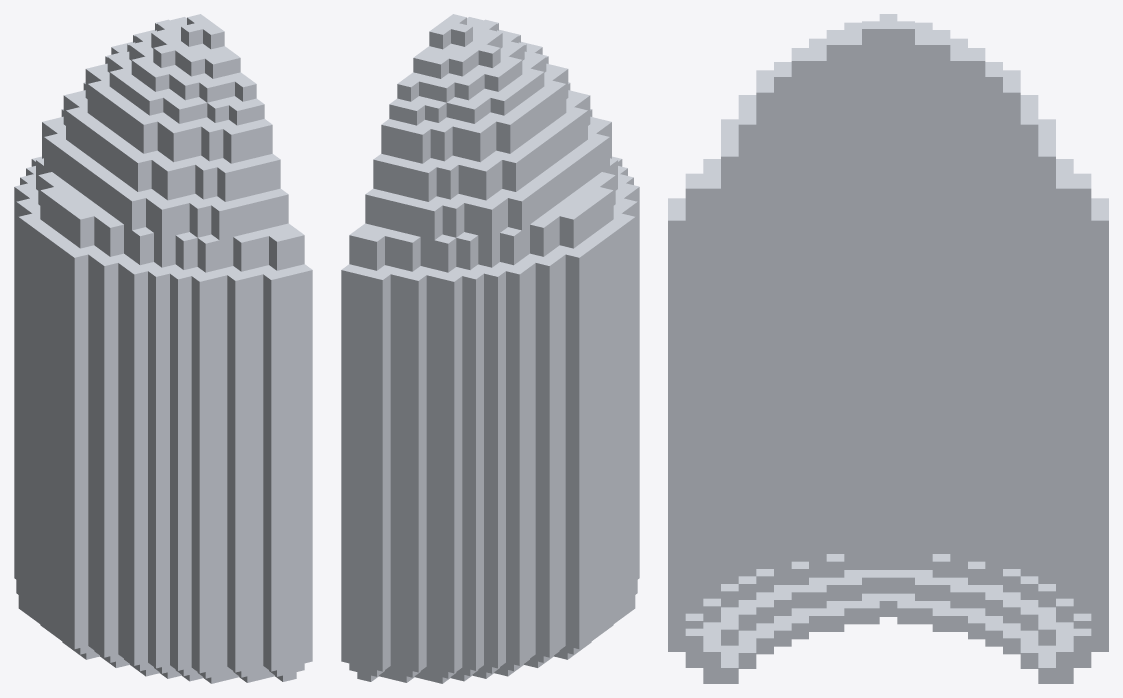
The model's file is pelicano_fairing_open.obj.
3 renders of one model, left to right at view 1: azimuth 30°, elevation 25°; view 2: azimuth 150°, elevation 25°; view 3: azimuth 270°, elevation 25°, orthographic. The views are drawn at different scales.
Bounding box in the file's own units: 1.2 × 4.1 × 2.5.
Materials: 1 (1 with a texture image).
